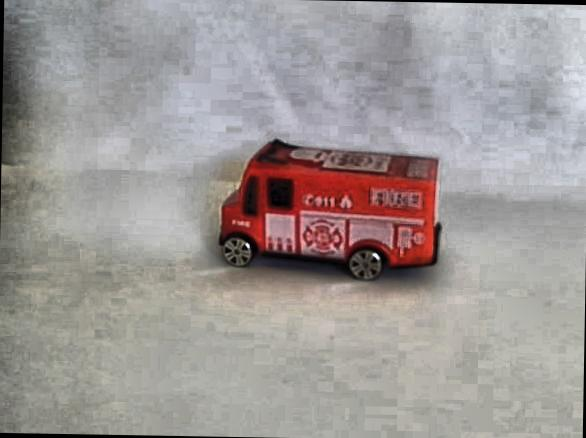fire_truck: (213, 136, 442, 282)
